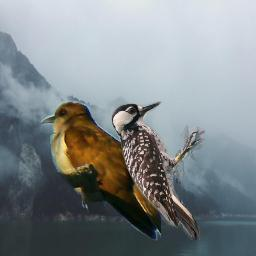Cuckoo: (41, 101, 161, 243)
Woodpecker: (111, 101, 205, 240)
